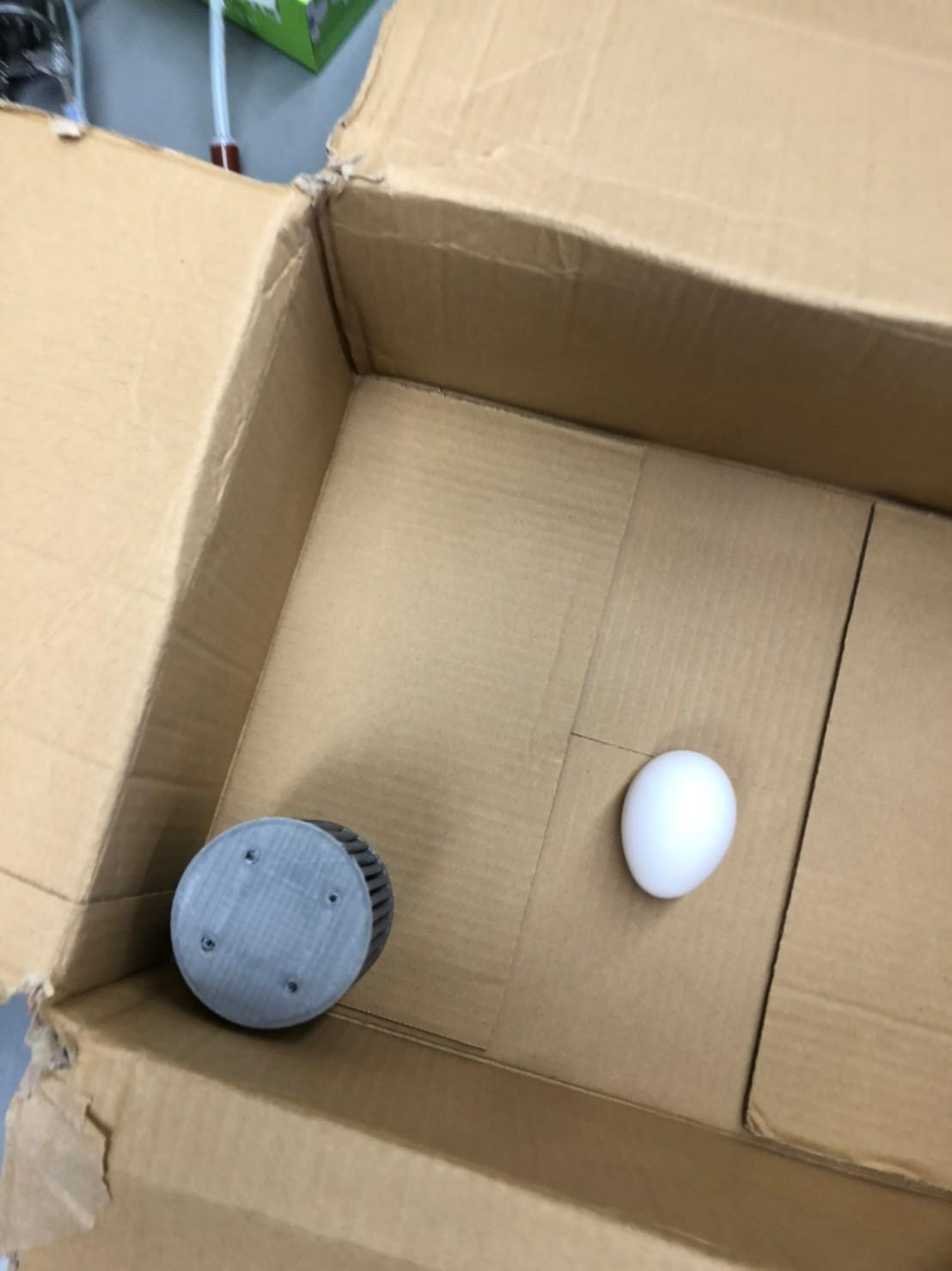egg: (610, 741, 743, 903)
